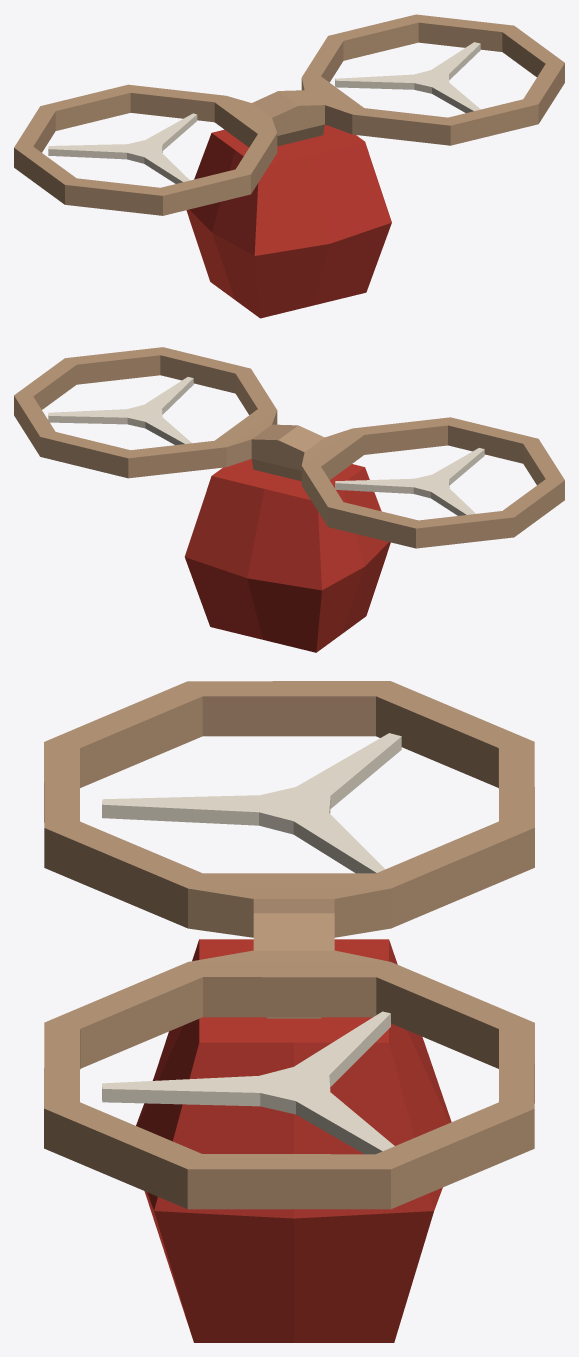
The model's file is Drone.fbx.
3 renders of one model, top to bottom at view 1: azimuth 30°, elevation 25°; view 2: azimuth 150°, elevation 25°; view 3: azimuth 270°, elevation 25°, orthographic. The views are drawn at different scales.
Visible parts, largest first — view 1: Drone, LeftPropeller, RightPropeller; view 2: Drone, RightPropeller, LeftPropeller; view 3: Drone, LeftPropeller, RightPropeller.
Boxes of the visible parts, <box> form: Drone: <box>14,14,564,318</box>; LeftPropeller: <box>48,113,197,183</box>; RightPropeller: <box>335,42,480,112</box>; Drone: <box>14,347,564,652</box>; RightPropeller: <box>48,377,193,445</box>; LeftPropeller: <box>335,448,484,515</box>; Drone: <box>44,681,534,1342</box>; LeftPropeller: <box>102,733,401,873</box>; RightPropeller: <box>102,1011,394,1154</box>.
Size of the model in its own units: 523 by 201 by 222.
